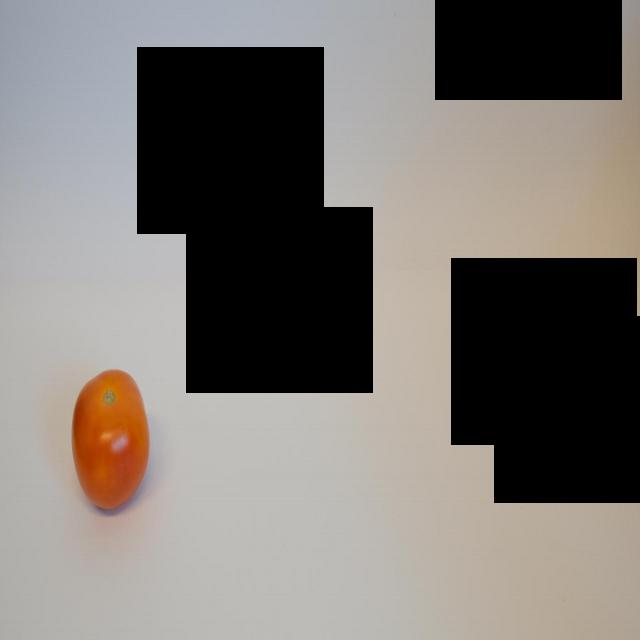tomato: (71, 368, 150, 512)
